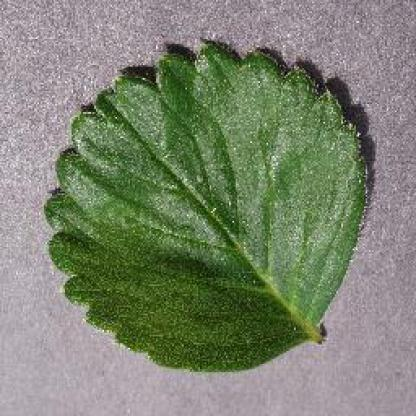healthy: (34, 32, 385, 384)
